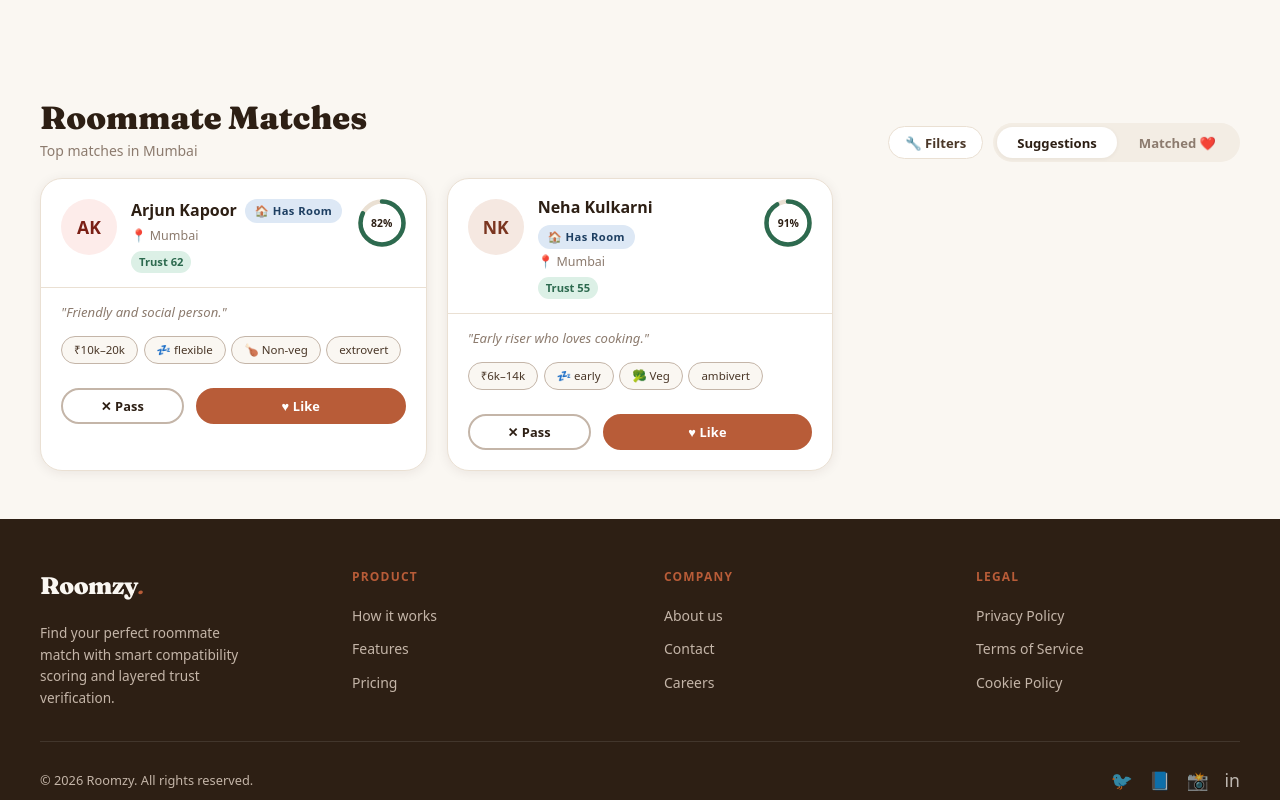
Test: Matches page › shows mutual match modal on isNowMatched=true
Note: First suggestion is user456 which triggers mutual match
Click the button "♥ Like" below "₹10k–20k" at (301, 406), box [196, 388, 406, 424]
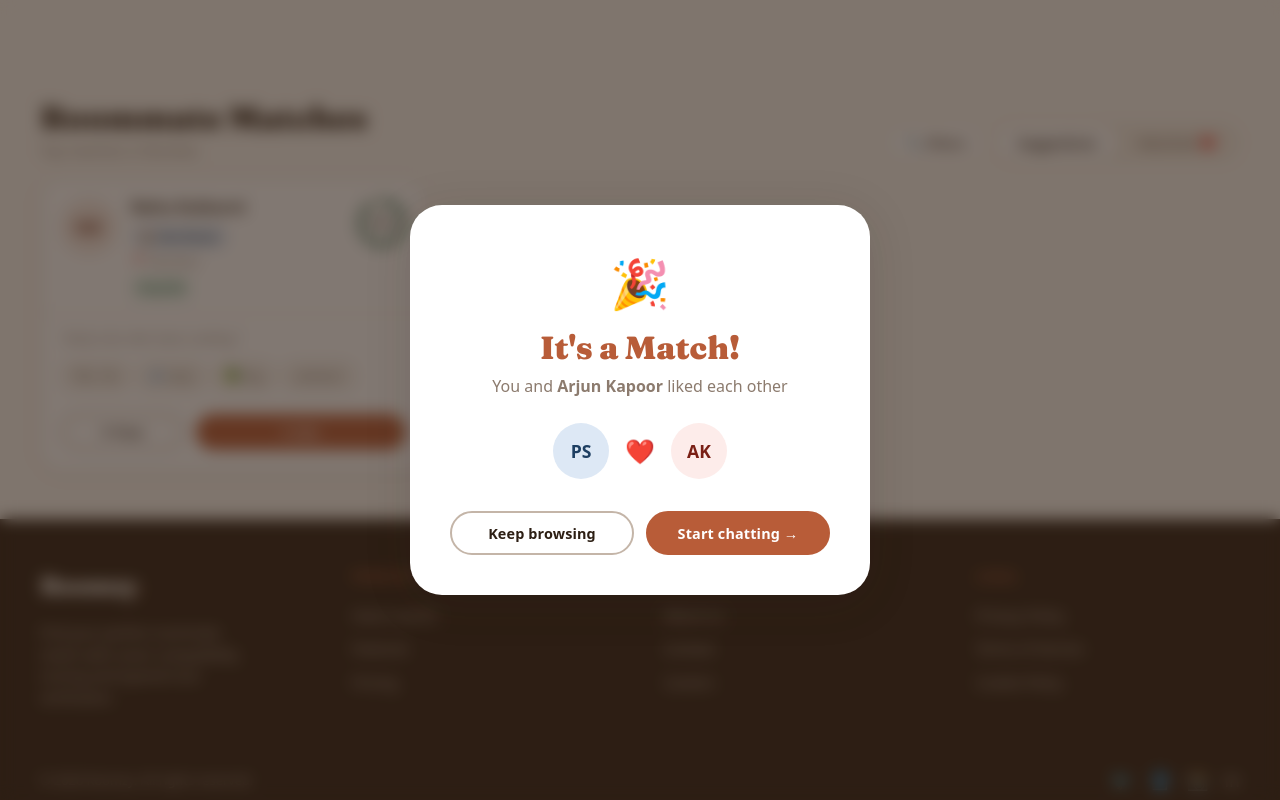
Expected: the text "Arjun Kapoor" is shown, [557, 375, 663, 397]
Expected: the heading "It's a Match!" is shown, [540, 328, 740, 367]
